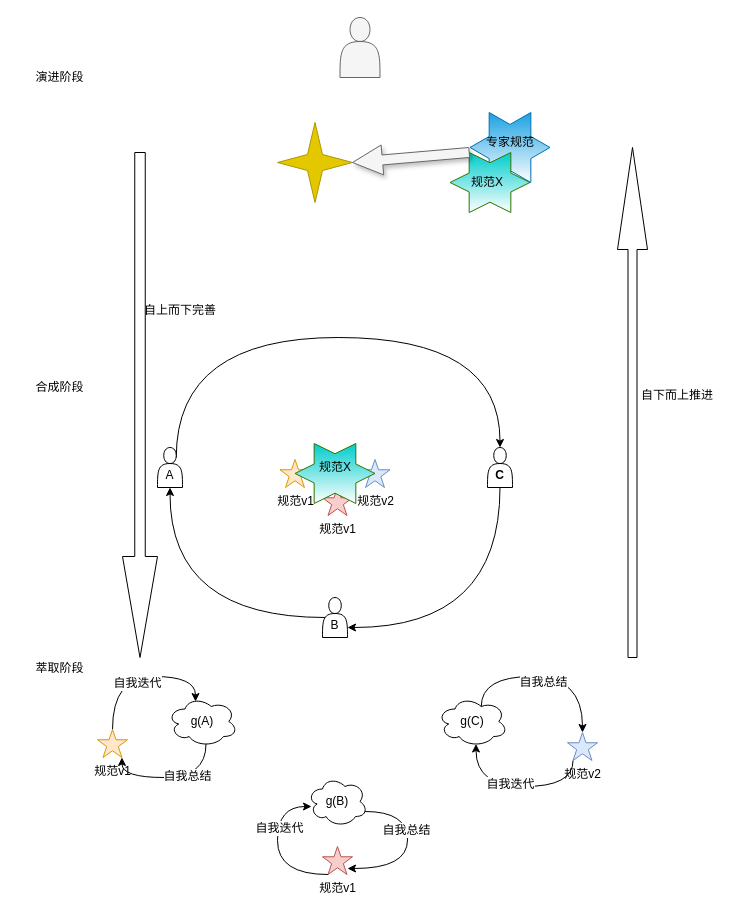
This 734x913 diagram has some shape labels left out. Each missing label, with the centre of its shape:
"专家" goes at (359,47).
"金科规范" goes at (314,162).
